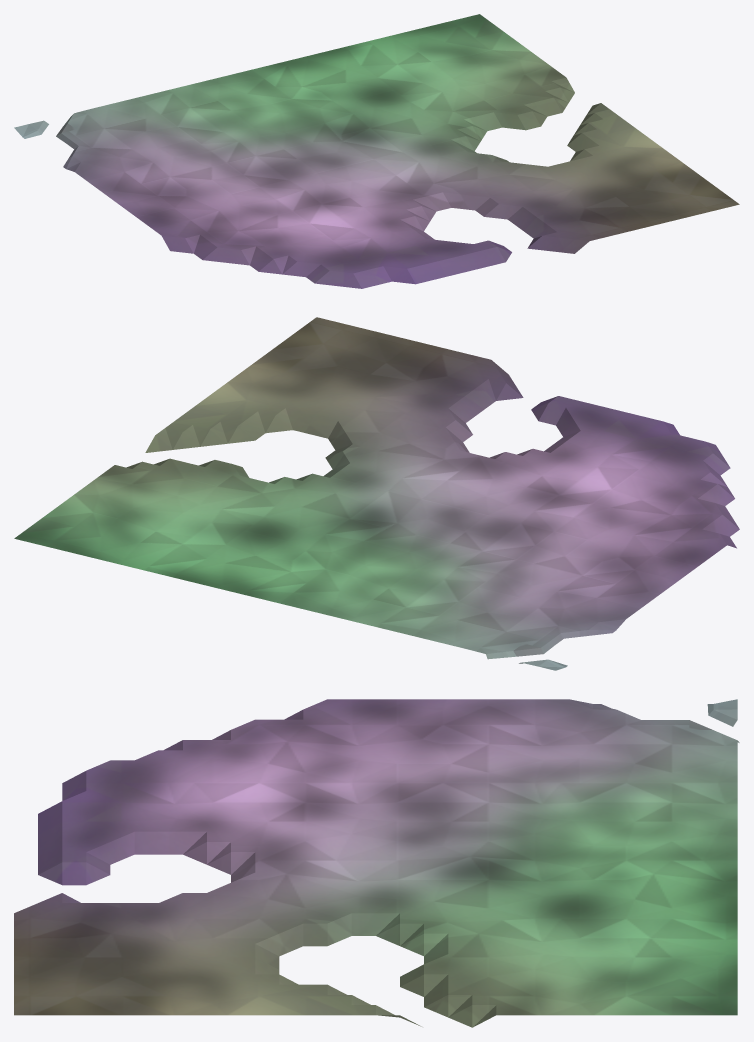
File: ground_3.fbx
3 views of the same model, one above another, from view 1: azimuth 30°, elevation 25°; view 2: azimuth 150°, elevation 25°; view 3: azimuth 270°, elevation 25° (orthographic). The views are drawn at different scales.
Visible parts, largest first — view 1: ground.000; view 2: ground.000; view 3: ground.000.
Part boxes in pixels (box(x1,y1,x2,y2)): ground.000: box(14, 14, 739, 288); ground.000: box(14, 317, 739, 670); ground.000: box(14, 699, 739, 1027).
Size of the model in its own units: 6098 by 114 by 5921.
